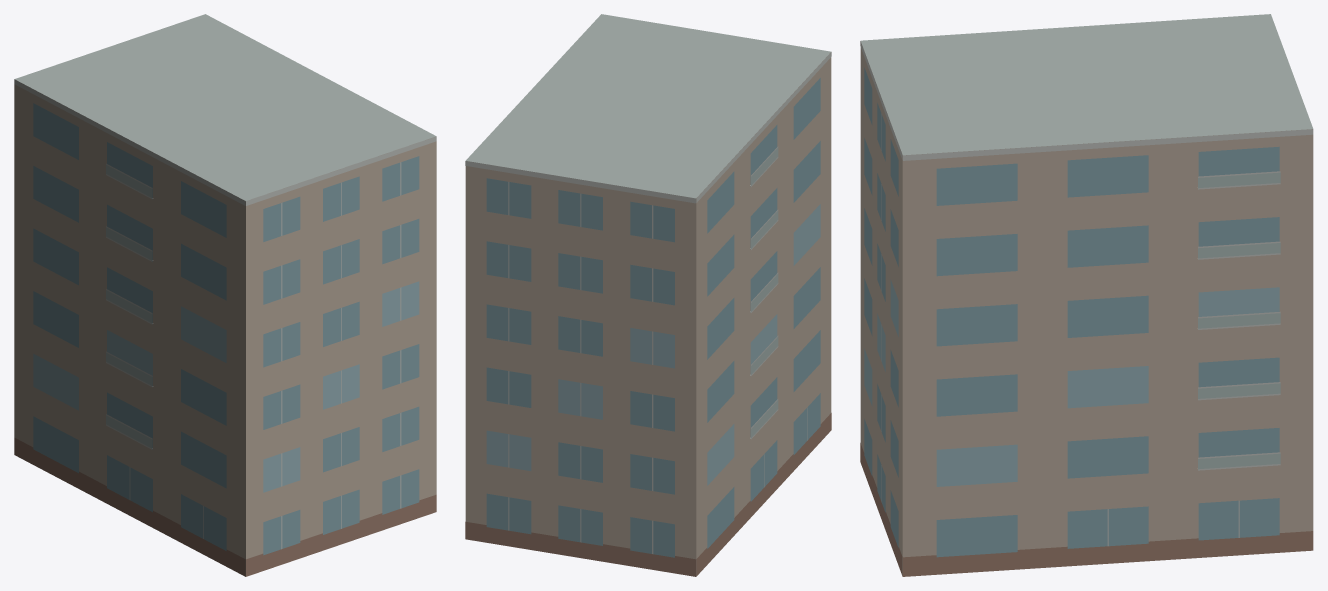
The model's file is survey-upis-32974463.glb.
The picture shows the model from 3 angles, left to right: view 1: azimuth 30°, elevation 25°; view 2: azimuth 150°, elevation 25°; view 3: azimuth 270°, elevation 25°; orthographic projection. The views are drawn at different scales.
Parts seen in each view (by area): view 1: survey-upis-32974463.tmp; view 2: survey-upis-32974463.tmp; view 3: survey-upis-32974463.tmp.
Boxes of the visible parts, x1=… form: survey-upis-32974463.tmp: x1=14, y1=14, x2=436, y2=576; survey-upis-32974463.tmp: x1=465, y1=14, x2=831, y2=576; survey-upis-32974463.tmp: x1=860, y1=14, x2=1313, y2=576.
Bounding box in the file's own units: 13.1 × 18.2 × 17.73.
